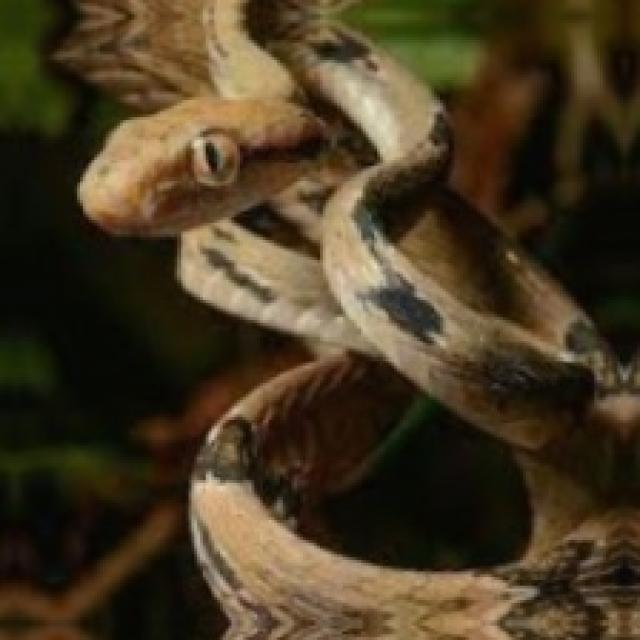dog-toothed cat snake: (60, 0, 637, 637)
